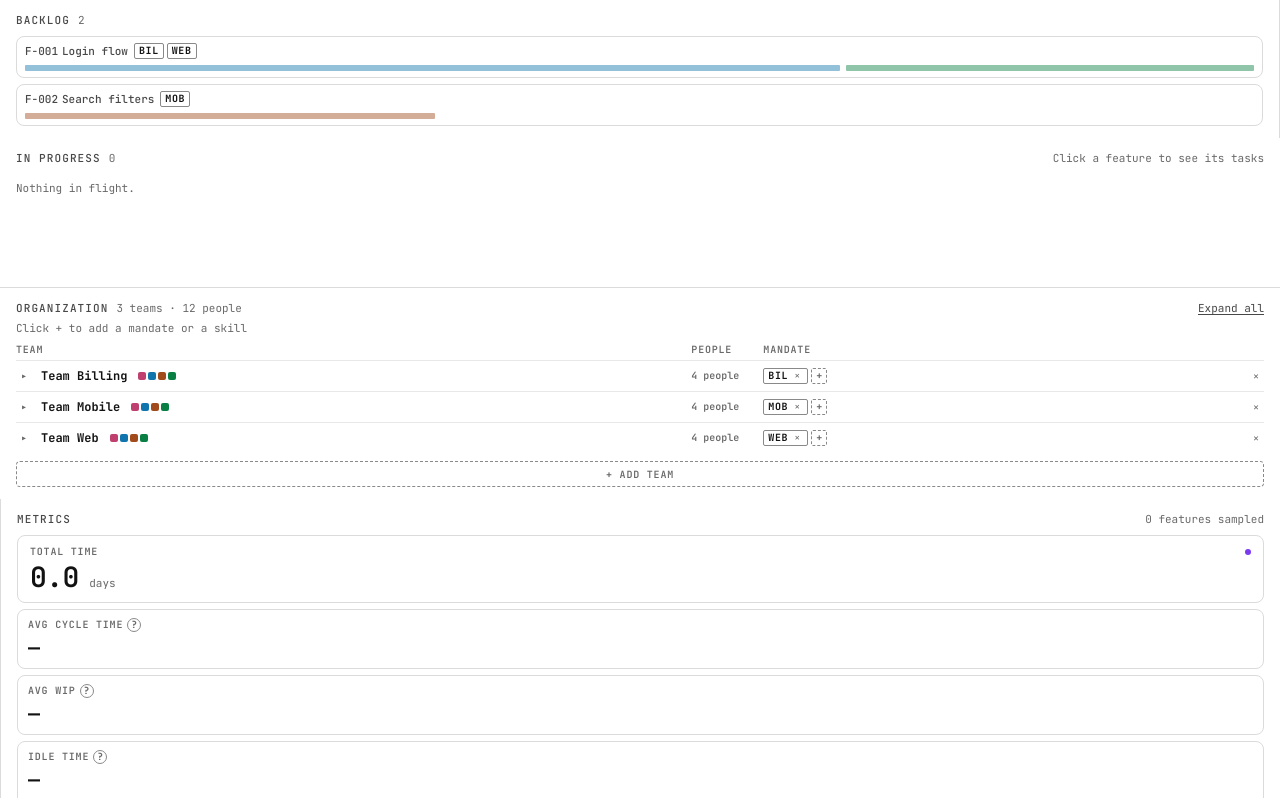
Test: feat-028 A1 a B1–B4: panel organizace před během › rozbalený tým ukáže lidi: jména a skilly (úpravy lidí a skillů přidal feat-030)
Click the button named "Show or hide people": (24, 438) x1=16 y1=429 x2=32 y2=447
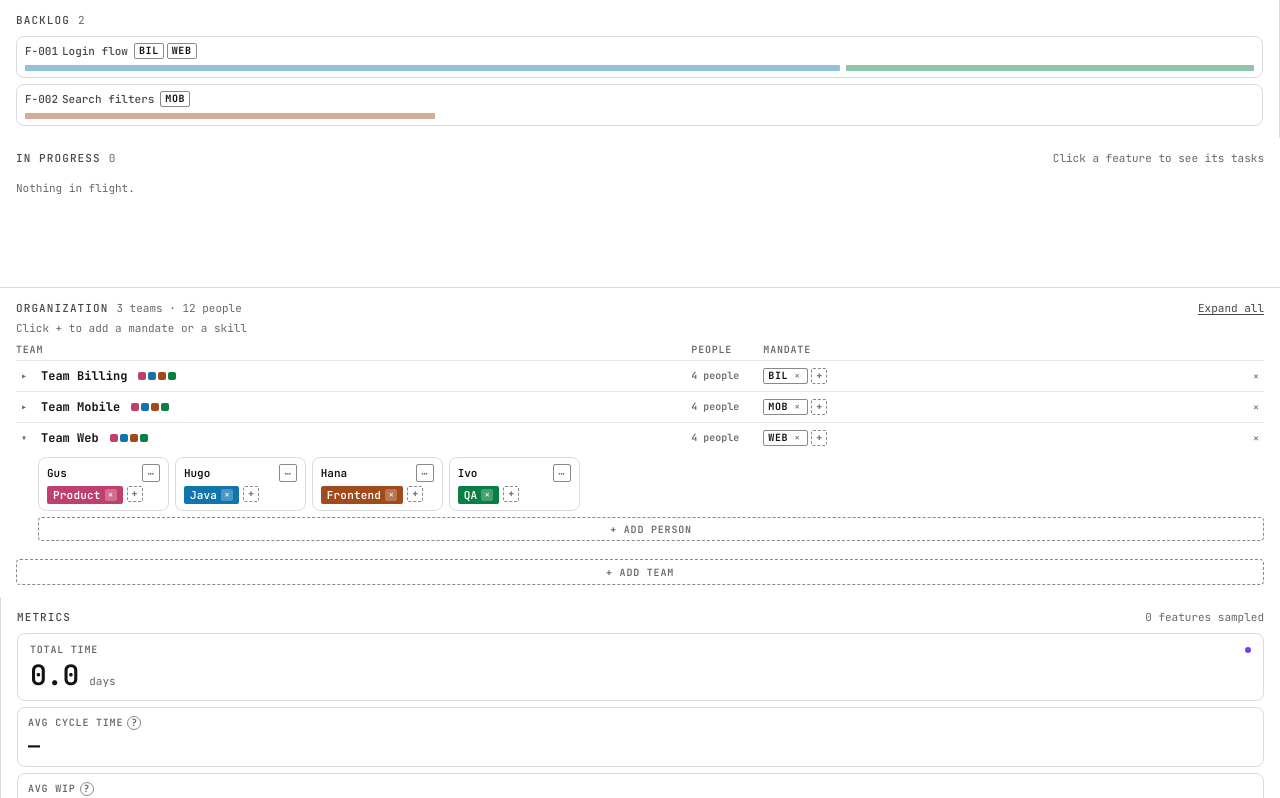
Result: the text "Frontend" is shown at x1=327 y1=490 x2=381 y2=500
